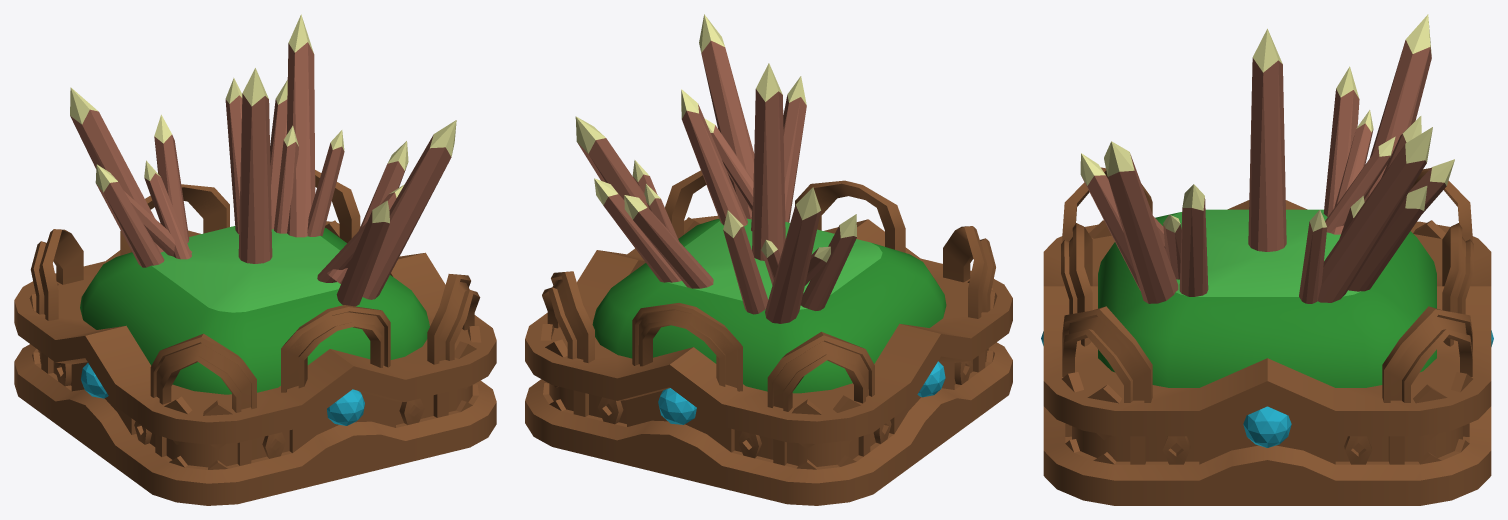
Rendered from Tile_spikes.fbx.
The picture shows the model from 3 angles, left to right: view 1: azimuth 30°, elevation 25°; view 2: azimuth 150°, elevation 25°; view 3: azimuth 270°, elevation 25°; orthographic projection. The views are drawn at different scales.
Parts seen in each view (by area): view 1: Cube.008, Cylinder.001; view 2: Cube.008, Cylinder.001; view 3: Cube.008, Cylinder.001.
Part boxes in pixels (x1,y1,x2,y2): Cube.008: (14,14,496,505); Cylinder.001: (238,68,272,263); Cube.008: (525,14,1012,505); Cylinder.001: (752,63,785,260); Cube.008: (1041,14,1493,505); Cylinder.001: (1248,28,1286,251).
Bounding box in the file's own units: 201 × 189 × 202.
